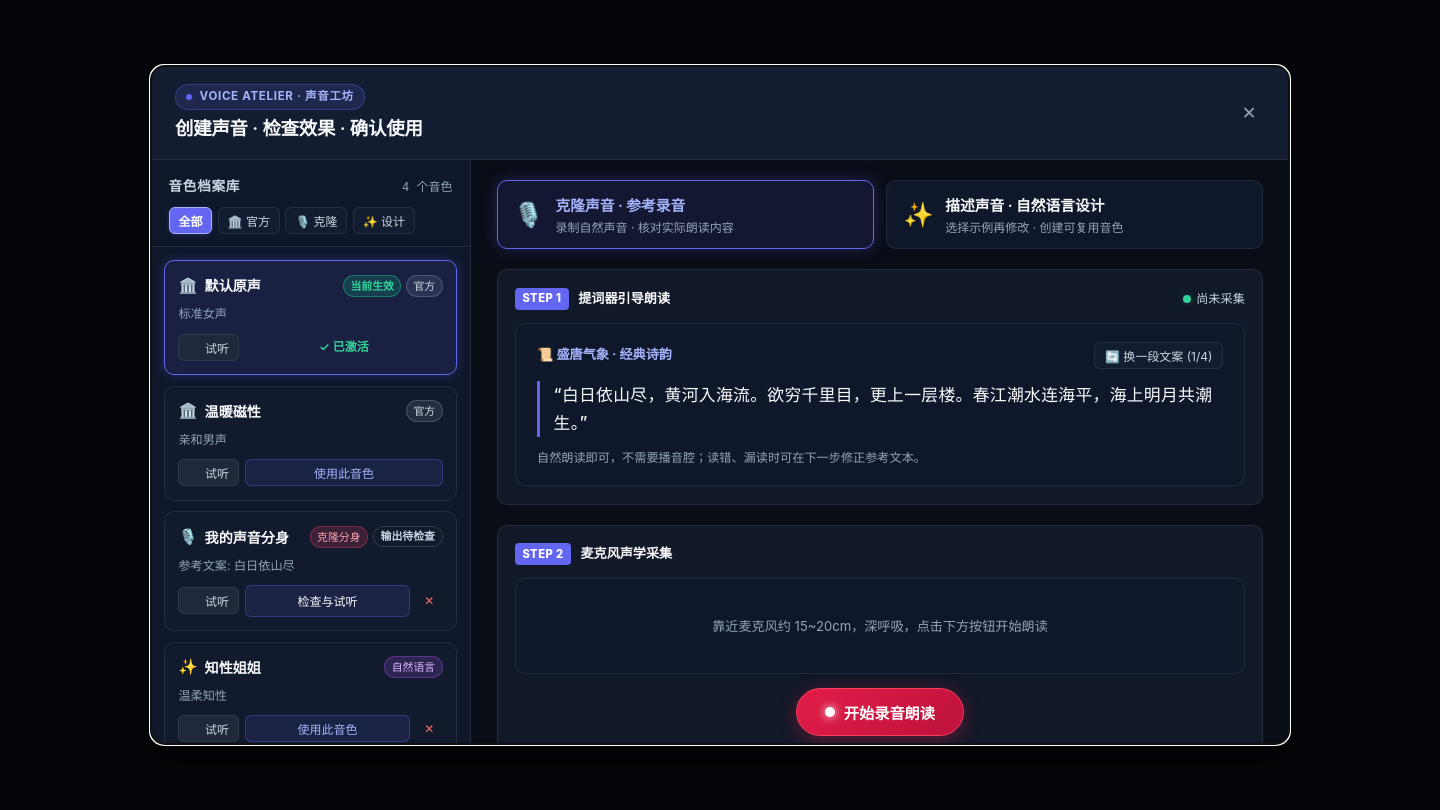
switches to design forge tab and applies inspiration prompt
Click the button with class "forge-tab-btn" that starts with "描述声音 · 自然语言设计".
click(1075, 215)  # box [886,180,1263,249]
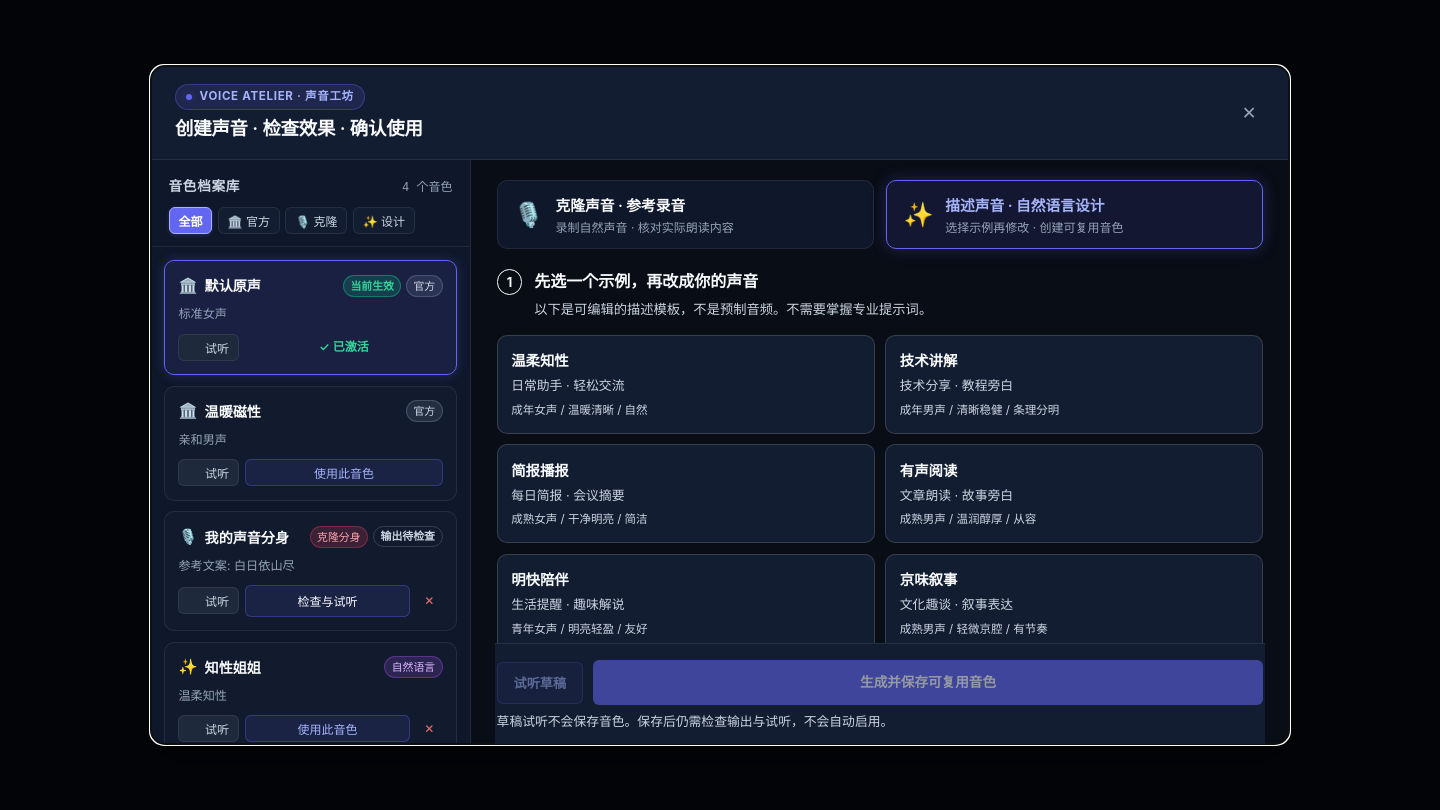
Click the button with class "design-inspiration-chip" that starts with "温柔知性".
click(540, 361)  # box [497,334,875,434]
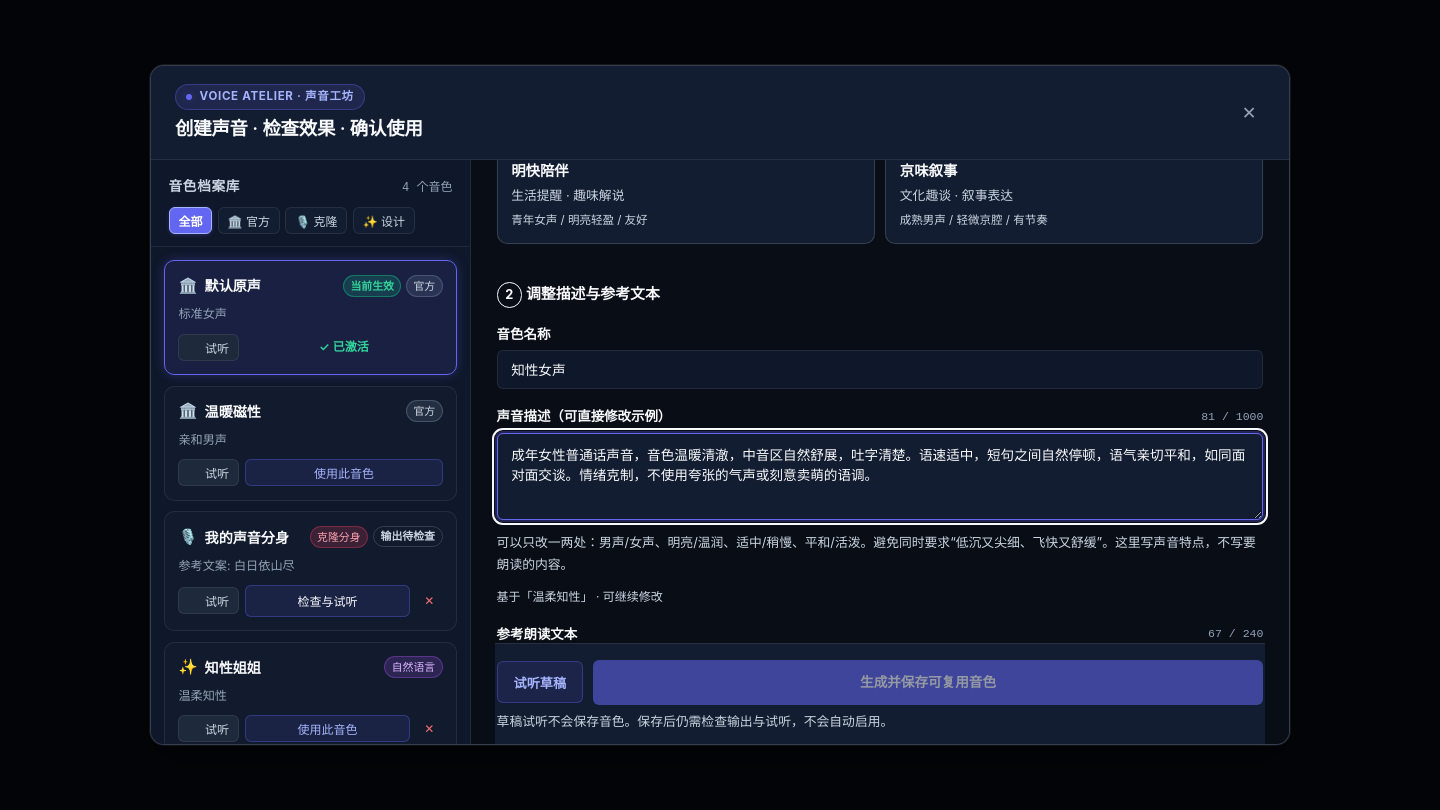
Result: the field with id "design-name-input" holds "知性女声" at [497,350,1263,389]
